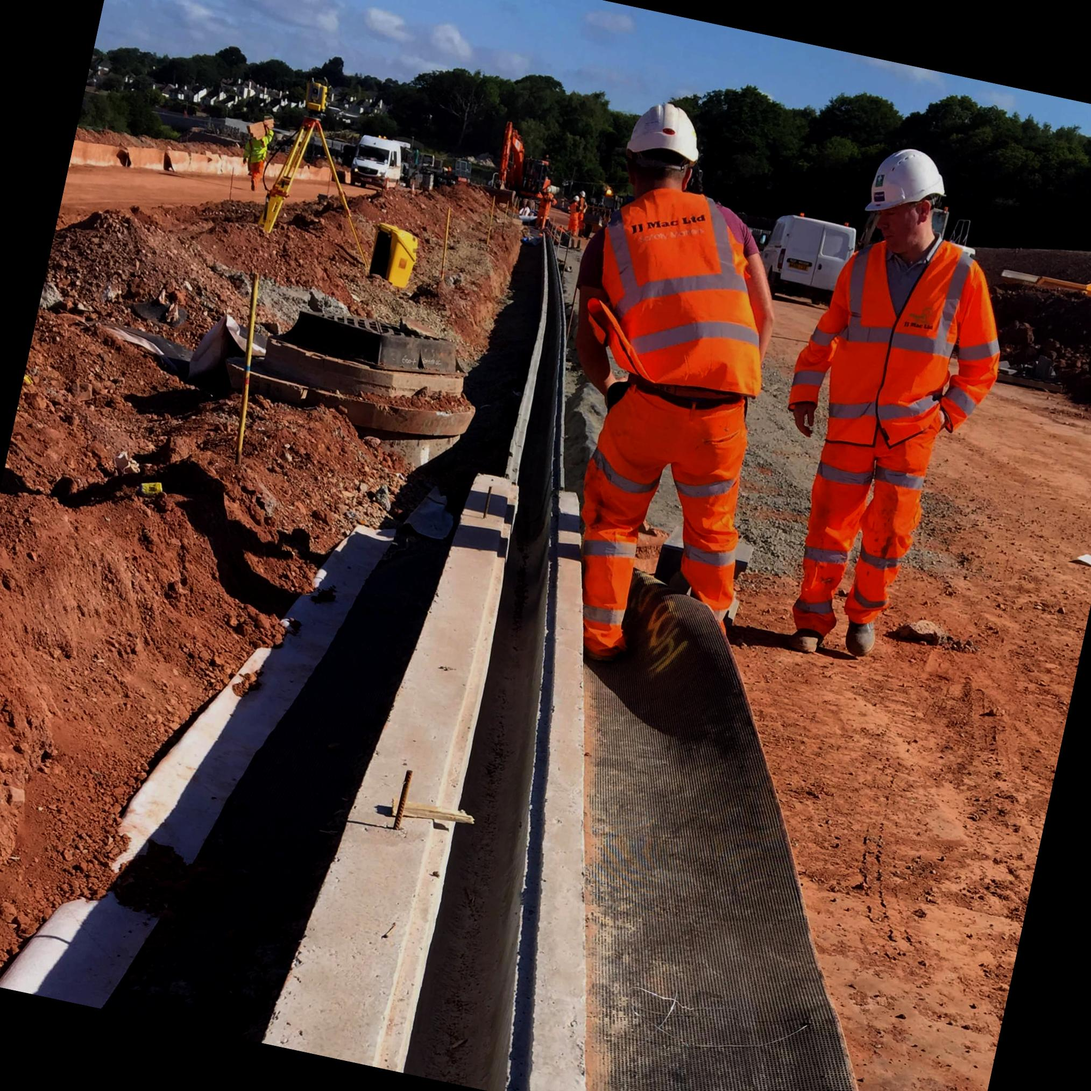helmet: (845, 140, 966, 252), (605, 89, 720, 195)
person: (493, 83, 865, 675), (733, 120, 1053, 673)
